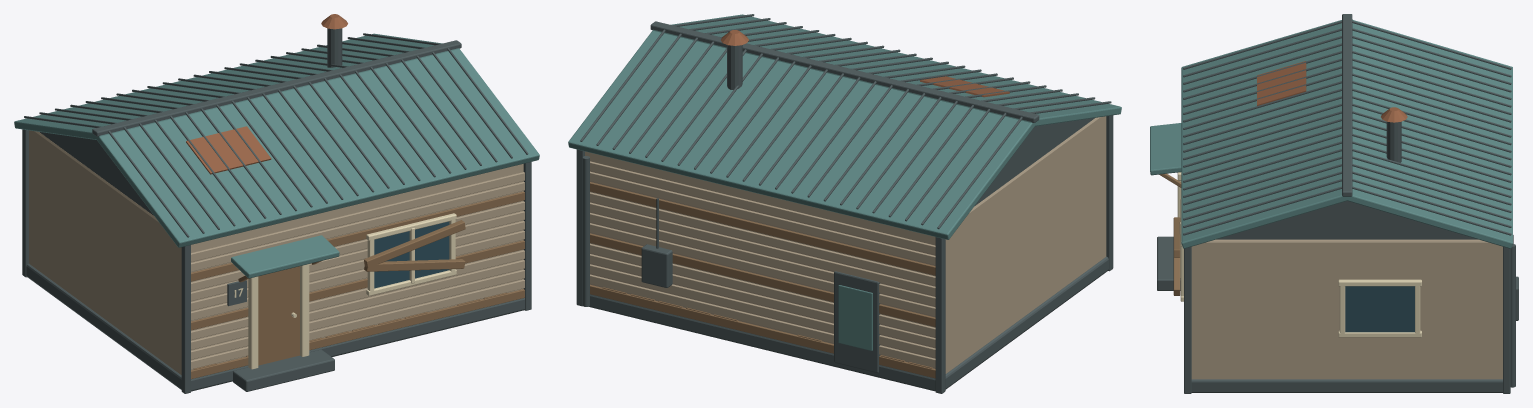
The model's file is Shack.glb.
3 renders of one model, left to right at view 1: azimuth 30°, elevation 25°; view 2: azimuth 150°, elevation 25°; view 3: azimuth 270°, elevation 25°, orthographic. The views are drawn at different scales.
Parts seen in each view (by area): view 1: Detail_Oxidized teal steel, Detail_Charcoal metal, MainShell, Detail_Warm plaster, Detail_Weathered timber, Detail_Ivory paint, Detail_Rust and brick, Detail_Dark blue glass; view 2: Detail_Oxidized teal steel, Detail_Charcoal metal, MainShell, Detail_Warm plaster, Detail_Weathered timber, Detail_Rust and brick; view 3: Detail_Oxidized teal steel, MainShell, Detail_Charcoal metal, Detail_Dark blue glass, Detail_Ivory paint, Detail_Rust and brick, Detail_Weathered timber.
Part boxes in pixels (<box>): Detail_Oxidized teal steel: <box>14,33,539,278</box>; Detail_Charcoal metal: <box>22,28,531,393</box>; MainShell: <box>29,130,523,374</box>; Detail_Warm plaster: <box>191,172,524,369</box>; Detail_Weathered timber: <box>191,191,524,379</box>; Detail_Ivory paint: <box>234,213,456,369</box>; Detail_Rust and brick: <box>186,14,347,174</box>; Detail_Dark blue glass: <box>374,221,449,288</box>; Detail_Oxidized teal steel: <box>568,14,1121,350</box>; Detail_Charcoal metal: <box>576,14,1113,393</box>; MainShell: <box>585,116,1106,373</box>; Detail_Warm plaster: <box>590,161,935,368</box>; Detail_Weathered timber: <box>590,182,935,378</box>; Detail_Rust and brick: <box>721,30,1009,97</box>; Detail_Oxidized teal steel: <box>1150,19,1512,248</box>; MainShell: <box>1191,239,1502,379</box>; Detail_Charcoal metal: <box>1157,14,1518,393</box>; Detail_Dark blue glass: <box>1345,286,1414,332</box>; Detail_Ivory paint: <box>1177,172,1421,337</box>; Detail_Rust and brick: <box>1257,61,1407,122</box>; Detail_Weathered timber: <box>1159,173,1181,295</box>.
Size of the model in its own units: 9 by 5.64 by 7.87.
